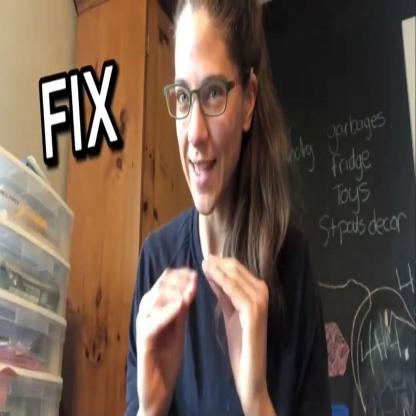Fix: (132, 254, 272, 416)
